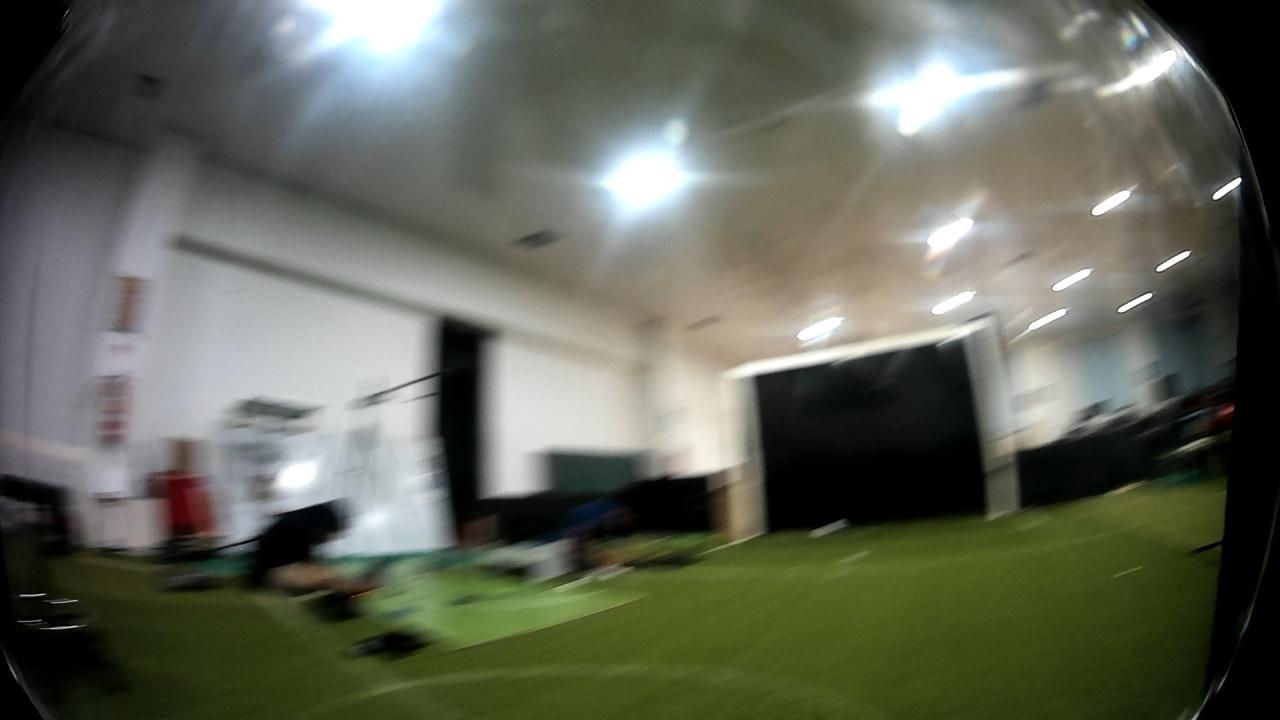ball: (804, 517, 853, 542)
